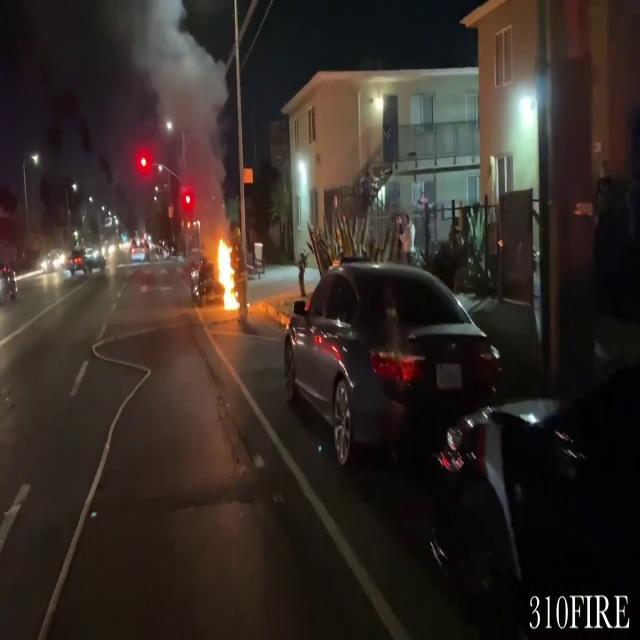Fire: (212, 232, 243, 314)
Smoke: (127, 0, 230, 221)
